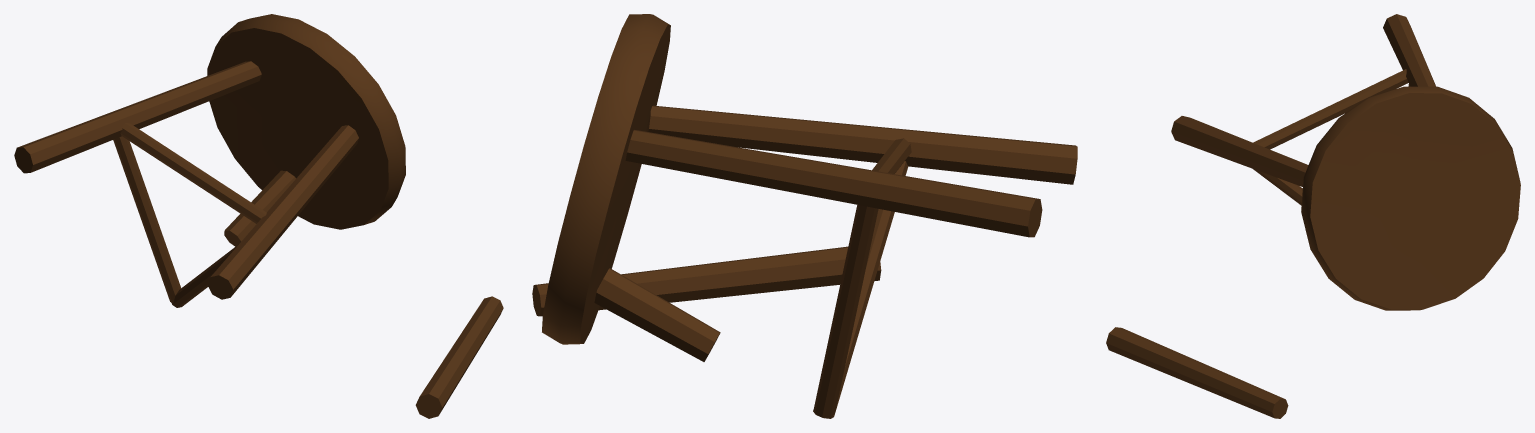
The model's file is hocker_kaputt.glb.
The picture shows the model from 3 angles, left to right: view 1: azimuth 30°, elevation 25°; view 2: azimuth 150°, elevation 25°; view 3: azimuth 270°, elevation 25°; orthographic projection. The views are drawn at different scales.
Visible parts, largest first — view 1: hocker_kaputt; view 2: hocker_kaputt; view 3: hocker_kaputt.
Part boxes in pixels (x1=…): hocker_kaputt: x1=14, y1=14, x2=503, y2=418; hocker_kaputt: x1=532, y1=14, x2=1077, y2=418; hocker_kaputt: x1=1106, y1=14, x2=1520, y2=418.
Bounding box in the file's own units: 0.6974 × 0.4512 × 0.6291.
